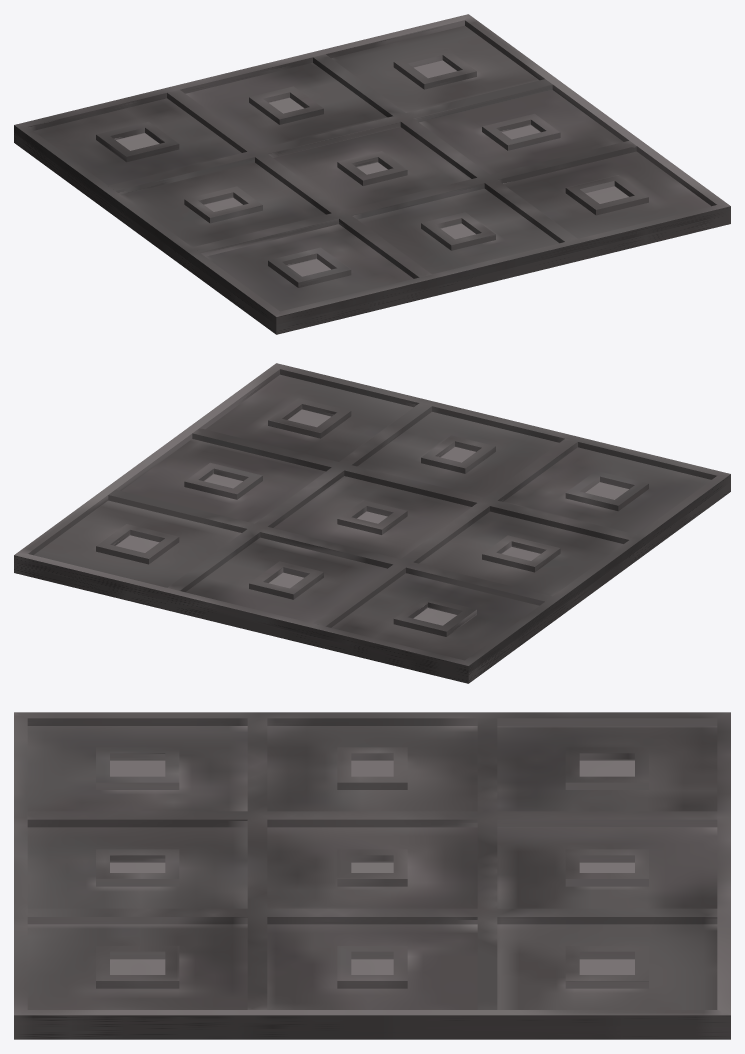
File: diken_platform.fbx
The picture shows the model from 3 angles, top to bottom: view 1: azimuth 30°, elevation 25°; view 2: azimuth 150°, elevation 25°; view 3: azimuth 270°, elevation 25°; orthographic projection. The views are drawn at different scales.
Visible parts, largest first — view 1: diken-platform; view 2: diken-platform; view 3: diken-platform.
Part boxes in pixels (box(x1,y1,x2,y2)): diken-platform: box(14, 14, 730, 334); diken-platform: box(14, 363, 730, 683); diken-platform: box(14, 712, 730, 1039).
Size of the model in its own units: 3.29 by 0.1229 by 3.29.
Materials: 1 (1 with a texture image).
